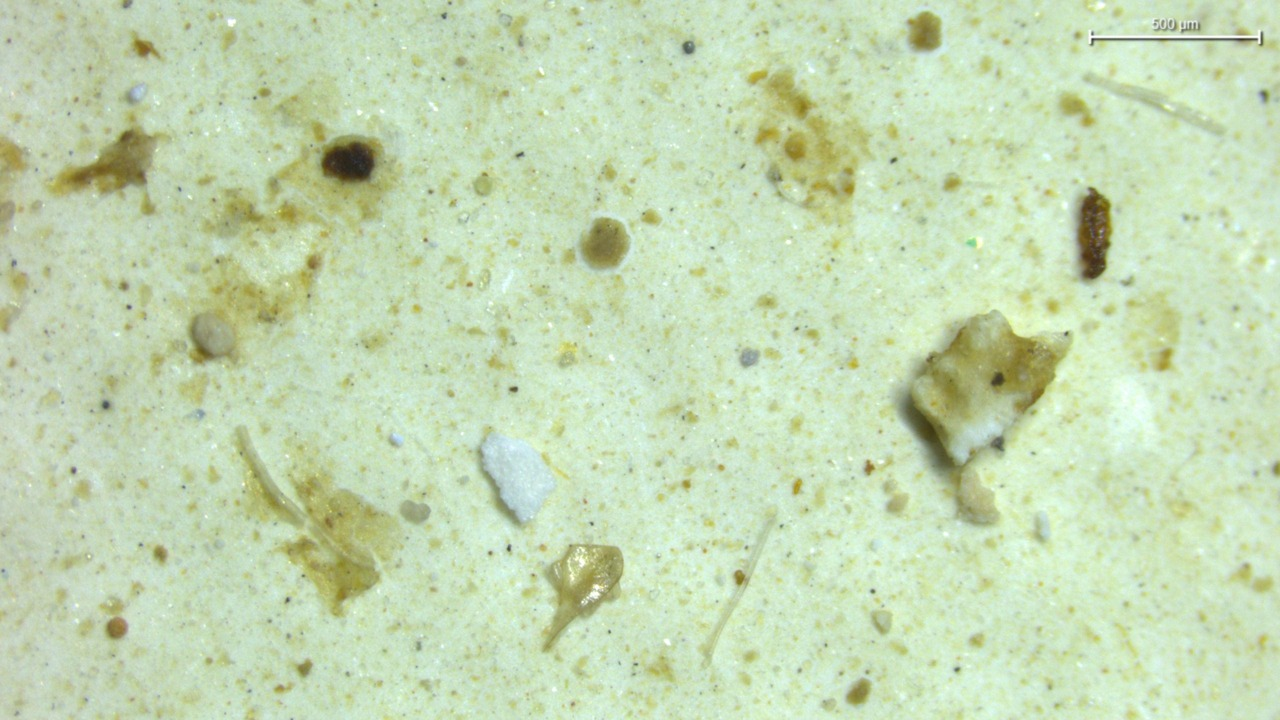microplastic_fragment: (910, 311, 1071, 465), (544, 544, 623, 649), (480, 433, 556, 523), (957, 455, 999, 523), (191, 313, 234, 357)
